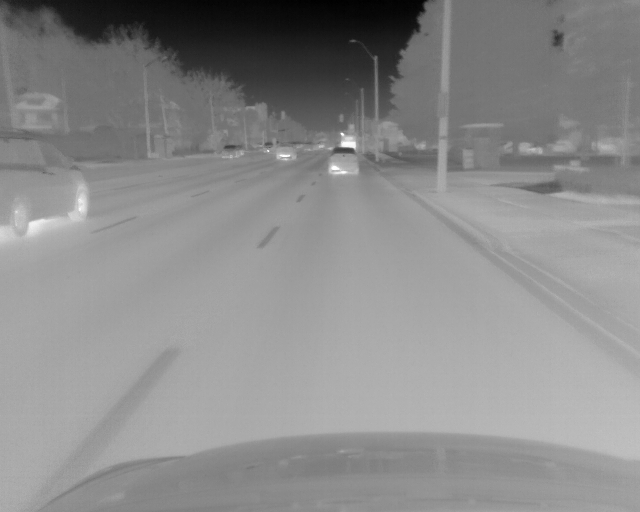car: (1, 128, 89, 237), (327, 147, 360, 175), (276, 142, 295, 161), (221, 144, 241, 161), (340, 130, 355, 150), (263, 140, 274, 154)
